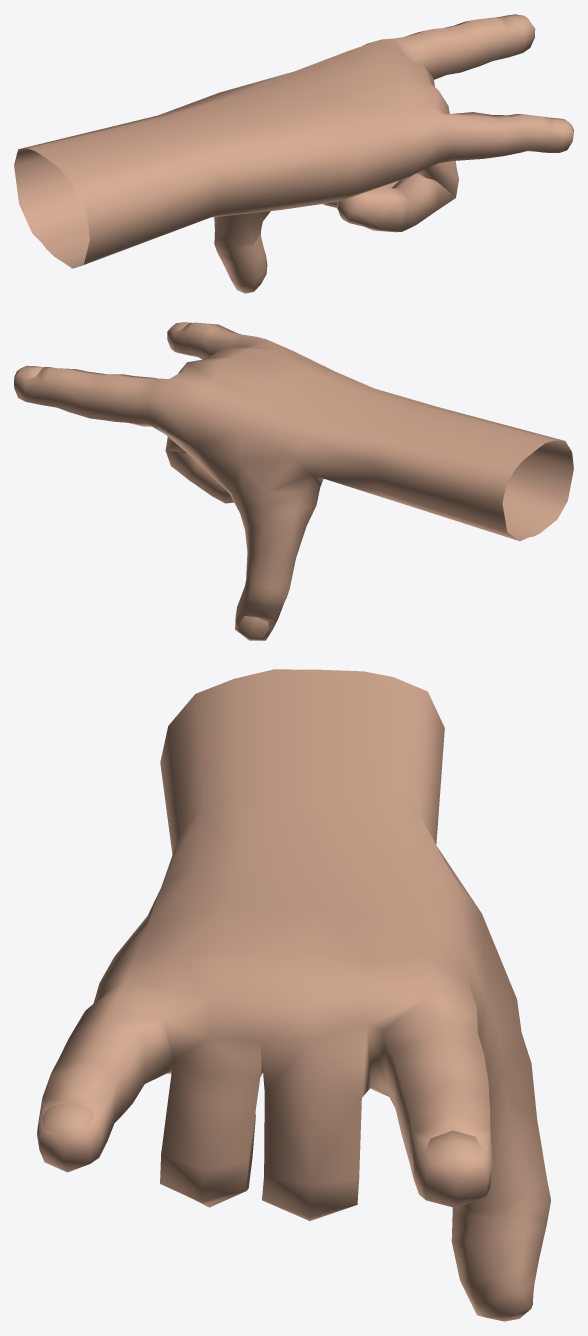
File: devil.obj
3 views of the same model, one above another, from view 1: azimuth 30°, elevation 25°; view 2: azimuth 150°, elevation 25°; view 3: azimuth 270°, elevation 25° (orthographic). The views are drawn at different scales.
Visible parts, largest first — view 1: Cube.000_Cube.017; view 2: Cube.000_Cube.017; view 3: Cube.000_Cube.017.
Part boxes in pixels (box(x1,y1,x2,y2)): Cube.000_Cube.017: box(14, 14, 573, 293); Cube.000_Cube.017: box(14, 322, 573, 640); Cube.000_Cube.017: box(37, 669, 550, 1321).
Size of the model in its own units: 0.2461 by 0.1086 by 0.113.
